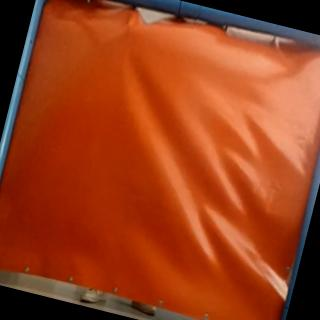Hit-hRxx: (121, 21, 137, 36)
